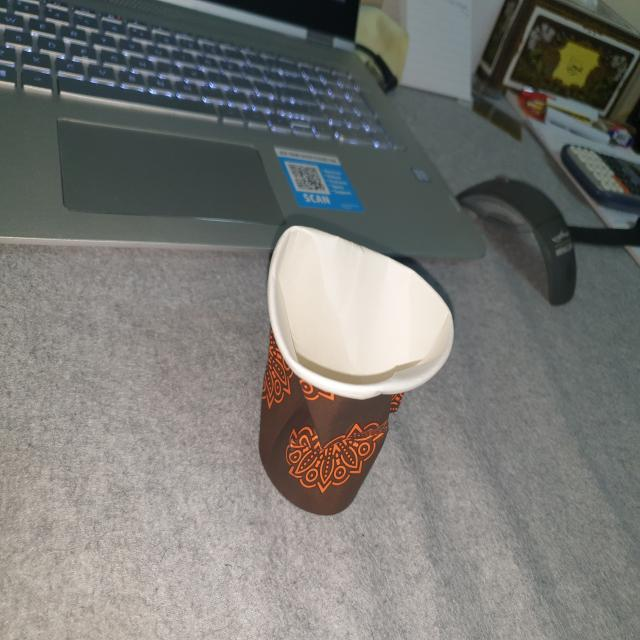cups: (248, 216, 456, 521)
